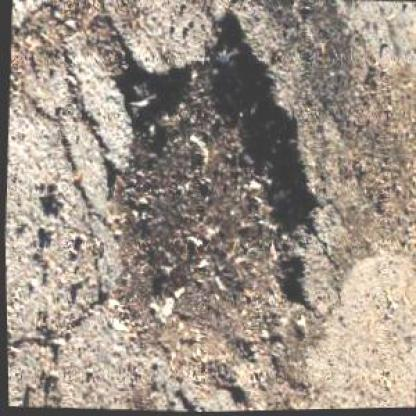pothole: (89, 3, 333, 408)
